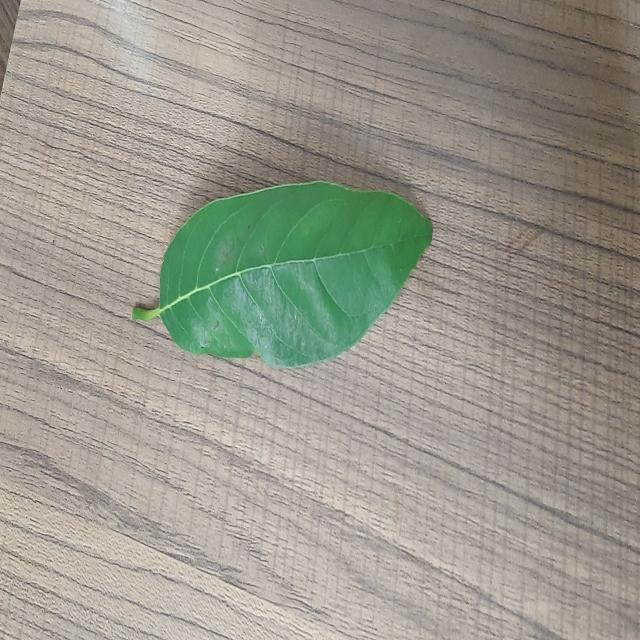leaf: (130, 178, 433, 369)
